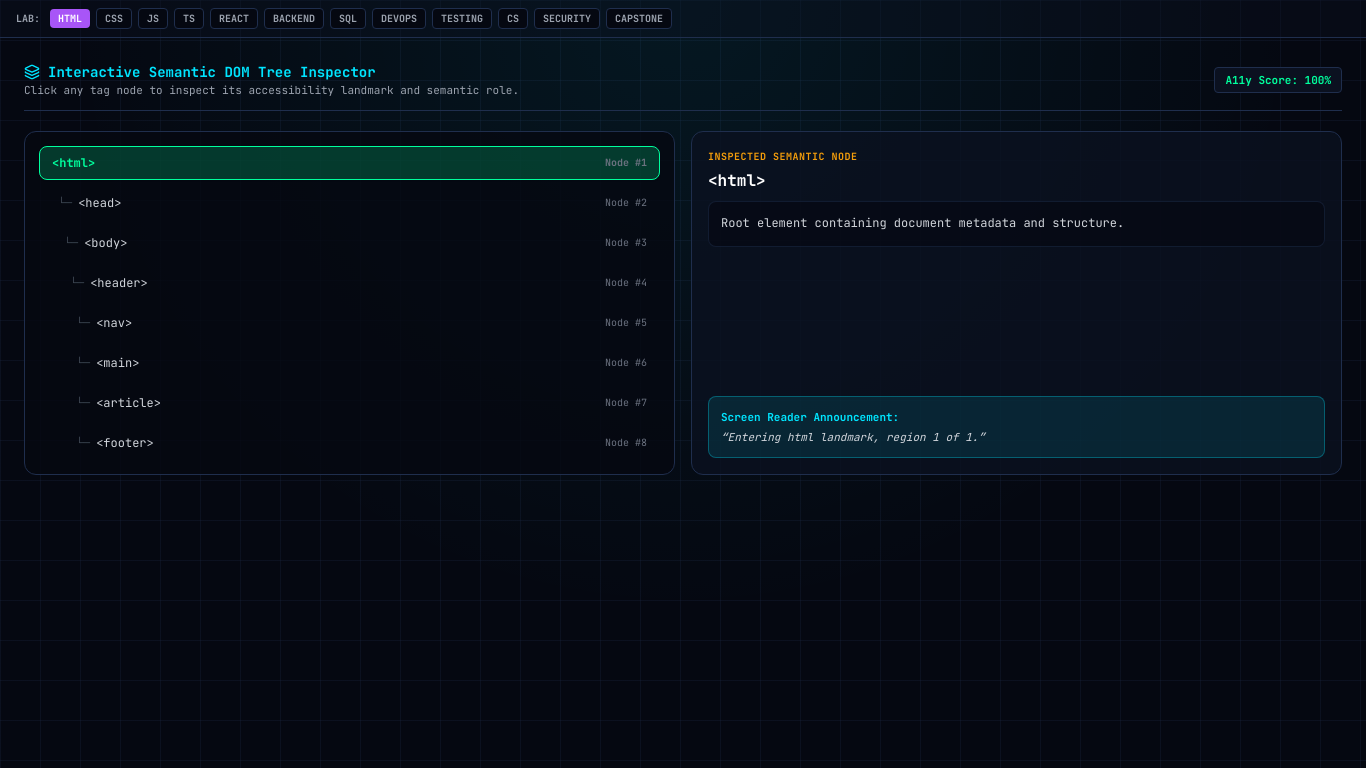
Test: RealmConceptVisualizer Component › renders HTML semantic DOM inspector by default and allows inspecting nodes
This screenshot has width=1366, height=768.
expect the heading "Interactive Semantic DOM Tree Inspector" is shown: met, box 24,63 -> 376,81
expect the text "Inspected Semantic Node" is shown: met, box 708,150 -> 858,163
Click the button with aria-label "inspect <head> semantic node" at (100, 203), box 45,186 -> 660,220
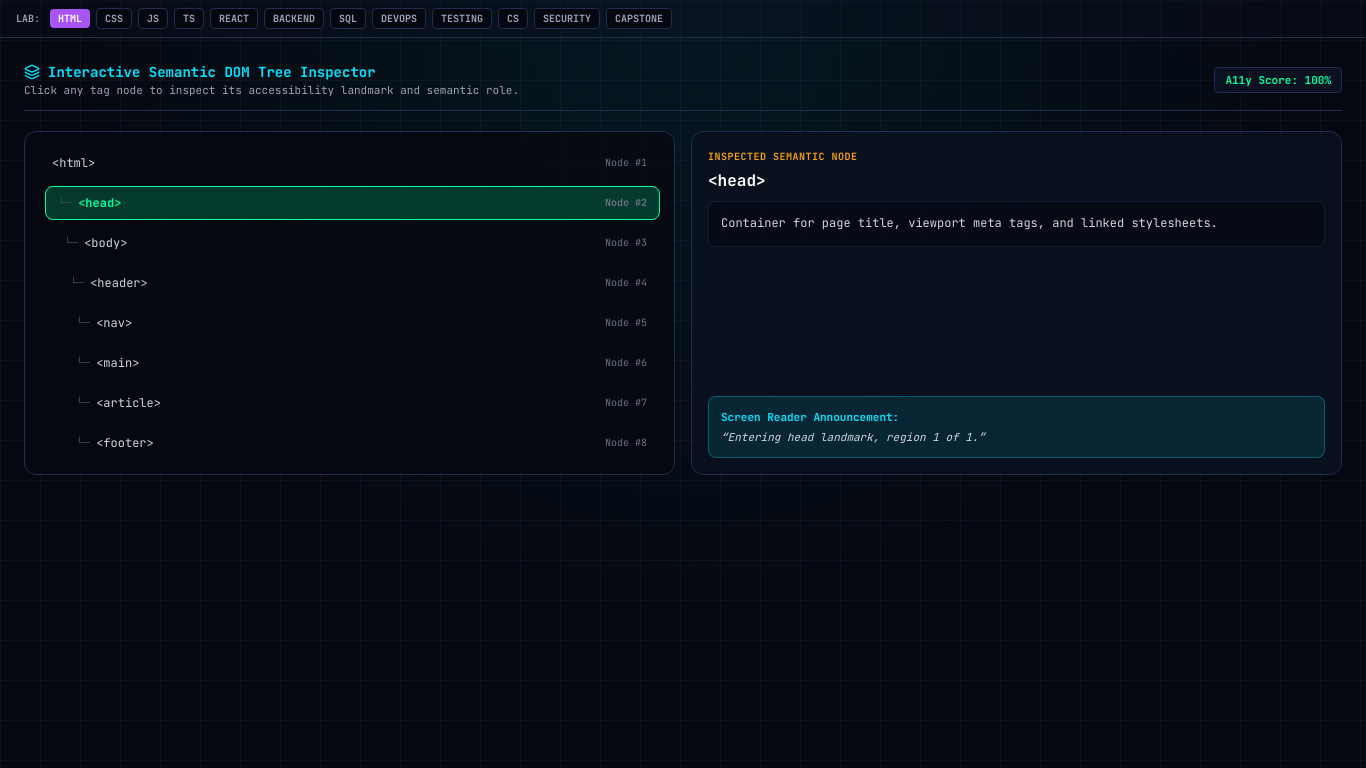
expect the text "Container for page title, viewport meta tags" is shown: met, box 721,215 -> 1218,231
